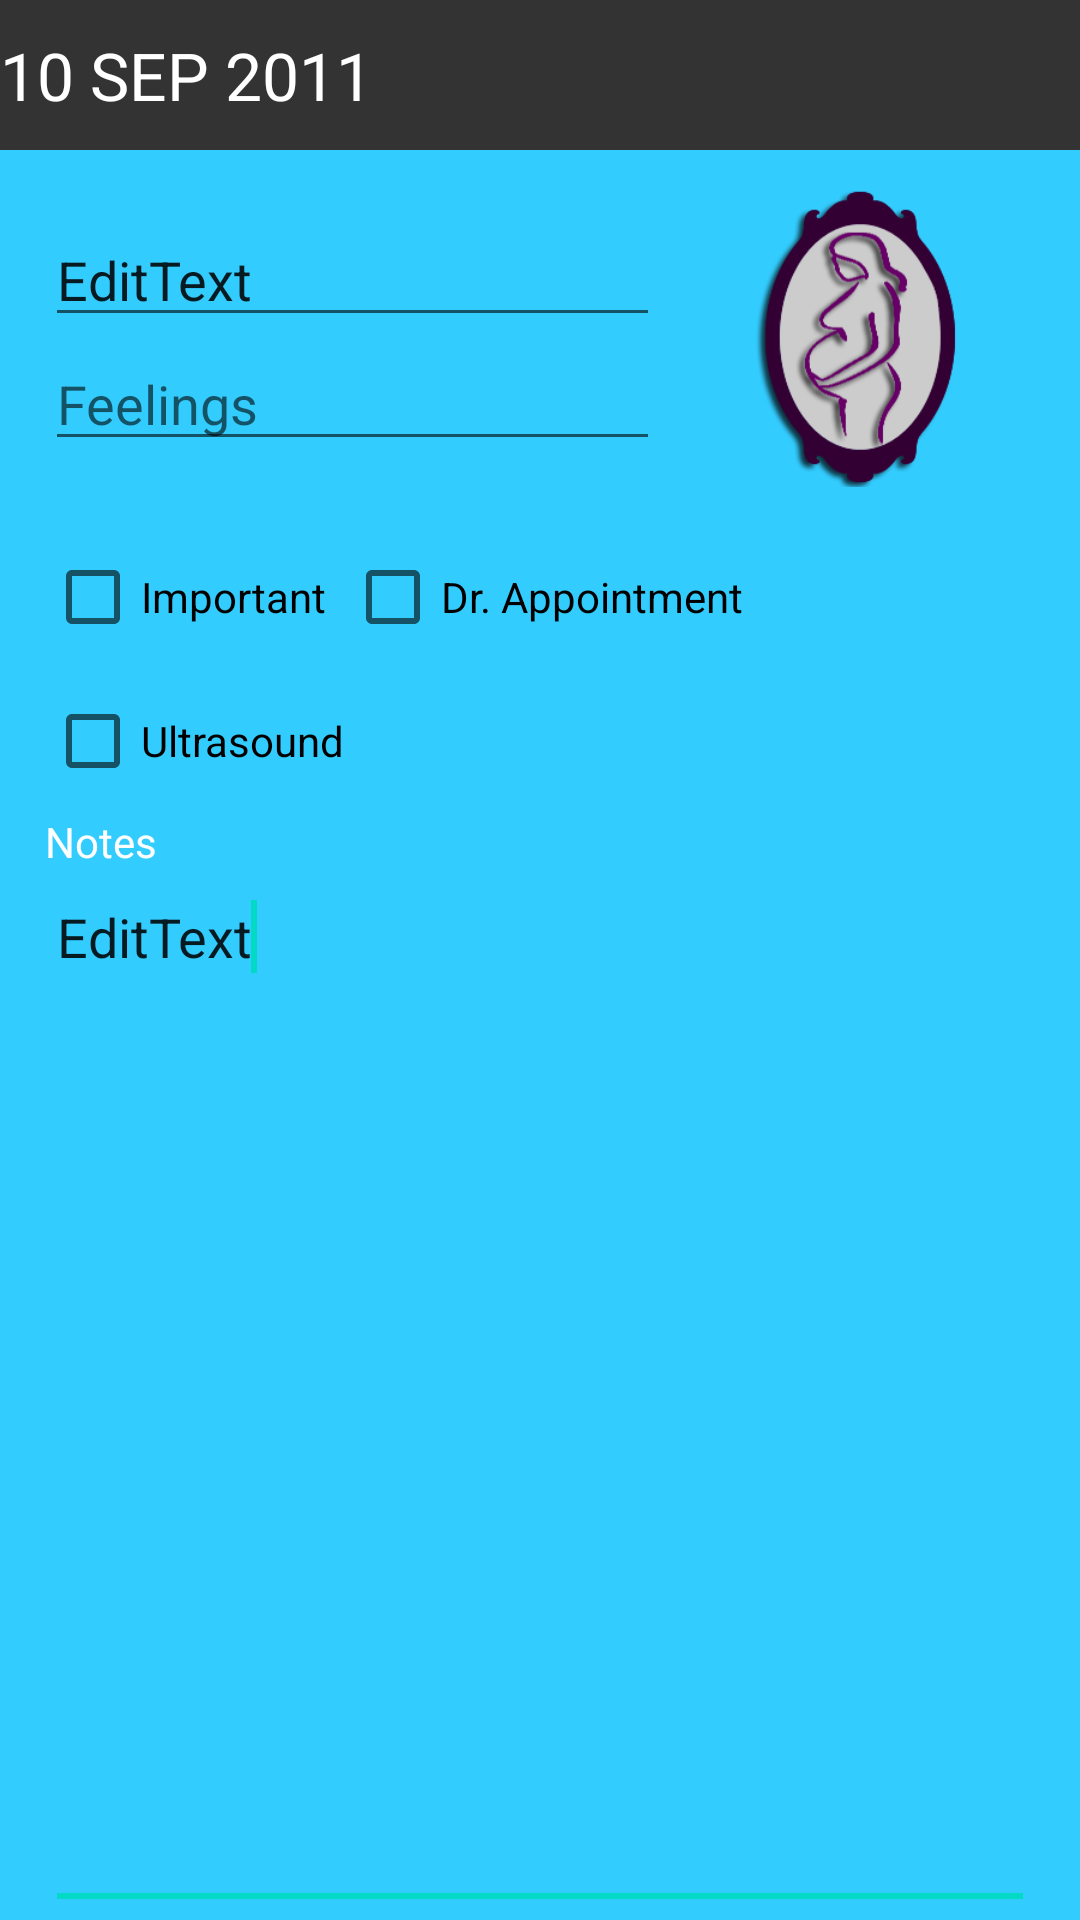

Named icons in this screenshot (1080 × 1920) and their bounding boxes, [left=x1, top=y1, right=x2, bottom=y2]:
momprofile: [left=758, top=191, right=955, bottom=487]
